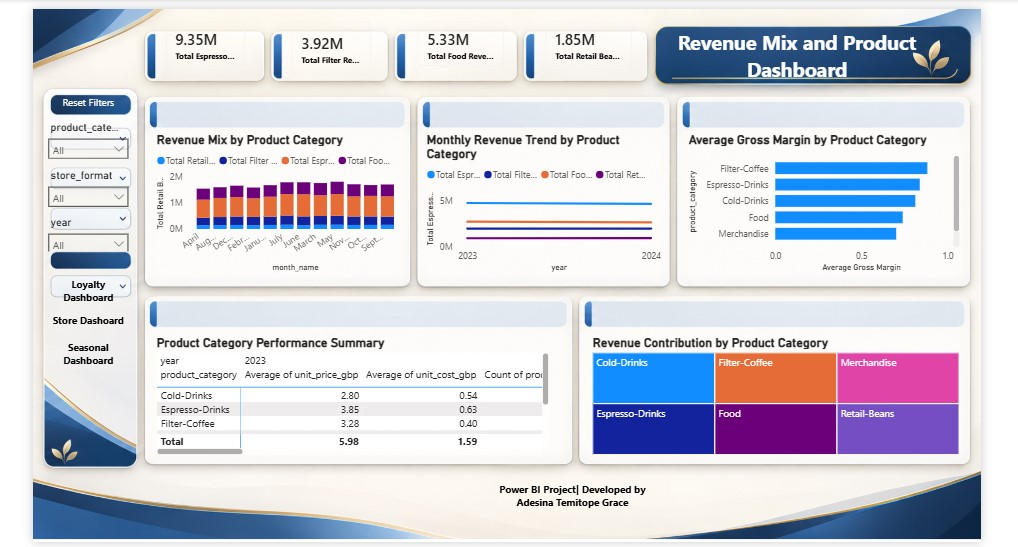

The page's visual inventory and layout, read from the dashboard file:
{"tool":"powerbi","page":{"name":"Revenue Dashboard ","canvas":[1280,720],"ordinal":3},"visuals":[{"type":"columnChart","title":"Revenue Mix by Product Category","fields":{"Category":["dim_date.month_name"],"Y":["Measure Table.Total Retail Beans Revenue","Measure Table.Total Filter Revenue","Measure Table.Total Espresso Revenue","Measure Table.Total Food Revenue"]},"box":[162.4,166.5,340,194.1],"z":0},{"type":"lineChart","title":"Monthly Revenue Trend by Product Category","fields":{"Category":["dim_date.Date Hierarchy.year","dim_date.Date Hierarchy.quarter","dim_date.Date Hierarchy.month_name","dim_date.Date Hierarchy.full_date"],"Y":["Measure Table.Total Espresso Revenue","Measure Table.Total Filter Revenue","Measure Table.Total Food Revenue","Measure Table.Total Retail Beans Revenue"]},"box":[527.1,166.5,326.2,194.1],"z":1000},{"type":"treemap","title":"Revenue Contribution by Product Category","fields":{"Group":["dim_product.product_category"],"Values":["Measure Table.Total Revenue"]},"box":[751.5,440.4,505.1,166.5],"z":2000},{"type":"clusteredBarChart","title":"Average Gross Margin by Product Category","fields":{"Category":["dim_product.product_category"],"Y":["Measure Table.Average Gross Margin"]},"box":[880.9,166.5,375.7,194.1],"z":3000},{"type":"pivotTable","title":"Product Category Performance Summary","fields":{"Rows":["dim_product.product_category"],"Values":["Avg(dim_product.unit_price_gbp)","Avg(dim_product.unit_cost_gbp)","CountNonNull(dim_product.product_id)","Measure Table.Average Gross Margin"],"Columns":["dim_date.year"]},"box":[162.4,440.4,539.5,166.5],"z":4000},{"type":"actionButton","title":"Loyalty Dashboard","box":[17.9,346.8,114.2,66.1],"z":5000},{"type":"actionButton","title":"Store Dashboard","box":[11,400.5,128,39.9],"z":6000},{"type":"actionButton","title":"Seasonal Dashboard","box":[17.9,440.4,114.2,50.9],"z":7000},{"type":"textbox","box":[853.3,22,359.2,84],"z":8000},{"type":"textbox","box":[623.5,634.5,212,85.3],"z":9000},{"type":"slicer","fields":{"Values":["dim_date.year"]},"box":[11,275.3,128,52.3],"z":10000},{"type":"slicer","fields":{"Values":["dim_store.store_format"]},"box":[11,212,128,63.3],"z":11000},{"type":"slicer","fields":{"Values":["dim_product.product_category"]},"box":[11,147.3,128,55.1],"z":12000},{"type":"actionButton","title":"Reset Filters","box":[11,106,128,41.3],"z":13000},{"type":"cardVisual","fields":{"Data":["Measure Table.Total Espresso Revenue"]},"box":[162.4,0,141.8,95],"z":14000},{"type":"cardVisual","fields":{"Data":["Measure Table.Total Filter Revenue"]},"box":[333.1,0,141.8,106],"z":15000},{"type":"cardVisual","fields":{"Data":["Measure Table.Total Food Revenue"]},"box":[502.4,0,151.4,95],"z":16000},{"type":"cardVisual","fields":{"Data":["Measure Table.Total Retail Beans Revenue"]},"box":[675.8,0,151.4,95],"z":17000}]}

Visuals, with their boxes on the page's 1280x720 design canvas (x1, y1, x2, y2). These are canvas units, not pixel positions in the 1018x547 screenshot, which may show the page scaled, cropped or inside an application window:
"Revenue Mix by Product Category" columnChart: bbox=(162, 166, 502, 361)
"Monthly Revenue Trend by Product Category" lineChart: bbox=(527, 166, 853, 361)
"Revenue Contribution by Product Category" treemap: bbox=(752, 440, 1257, 607)
"Average Gross Margin by Product Category" clusteredBarChart: bbox=(881, 166, 1257, 361)
"Product Category Performance Summary" pivotTable: bbox=(162, 440, 702, 607)
"Loyalty Dashboard" actionButton: bbox=(18, 347, 132, 413)
"Store Dashboard" actionButton: bbox=(11, 400, 139, 440)
"Seasonal Dashboard" actionButton: bbox=(18, 440, 132, 491)
textbox: bbox=(853, 22, 1212, 106)
textbox: bbox=(624, 634, 836, 720)
slicer - dim_date.year: bbox=(11, 275, 139, 328)
slicer - dim_store.store_format: bbox=(11, 212, 139, 275)
slicer - dim_product.product_category: bbox=(11, 147, 139, 202)
"Reset Filters" actionButton: bbox=(11, 106, 139, 147)
cardVisual - Measure Table.Total Espresso Revenue: bbox=(162, 0, 304, 95)
cardVisual - Measure Table.Total Filter Revenue: bbox=(333, 0, 475, 106)
cardVisual - Measure Table.Total Food Revenue: bbox=(502, 0, 654, 95)
cardVisual - Measure Table.Total Retail Beans Revenue: bbox=(676, 0, 827, 95)
